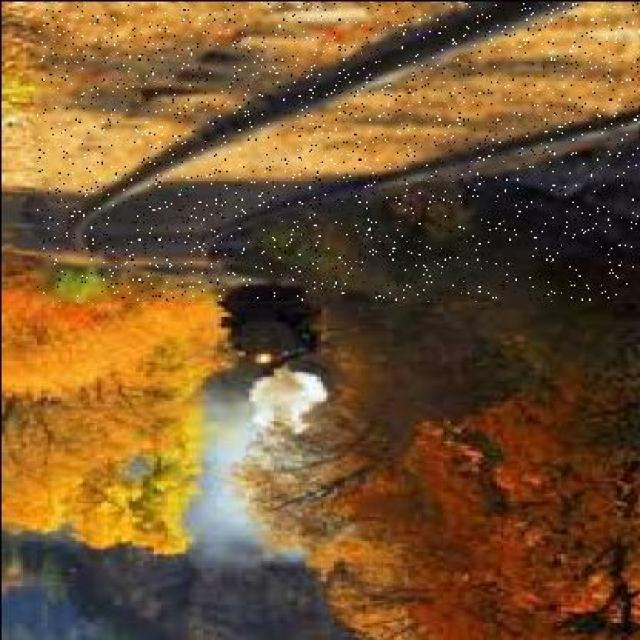rail: (36, 3, 637, 300)
